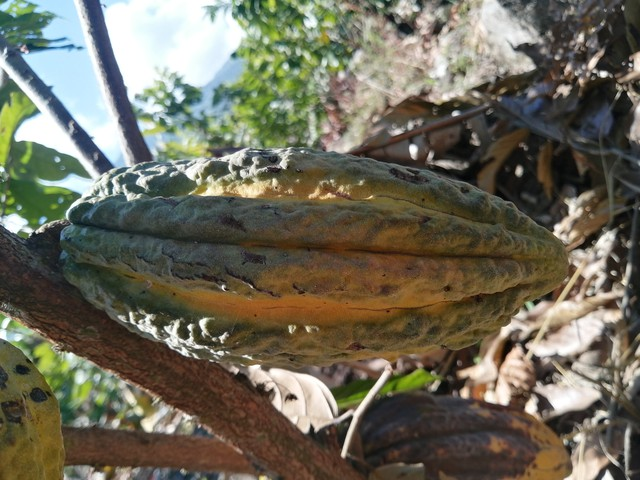moniliophthora perniciosa: (39, 137, 597, 375)
